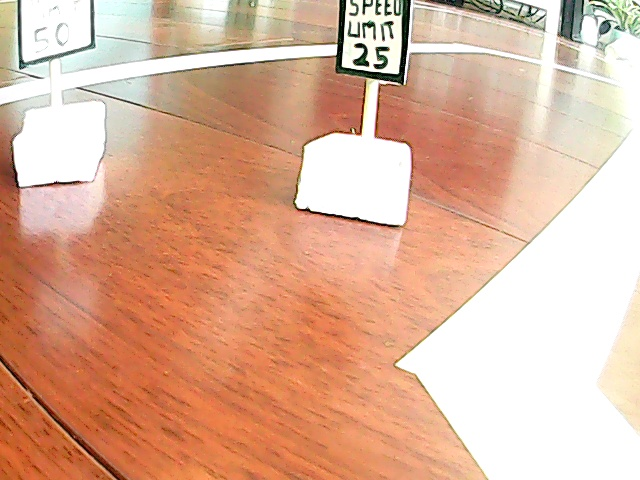speed_25: (298, 1, 422, 228)
speed_50: (11, 1, 120, 181)
